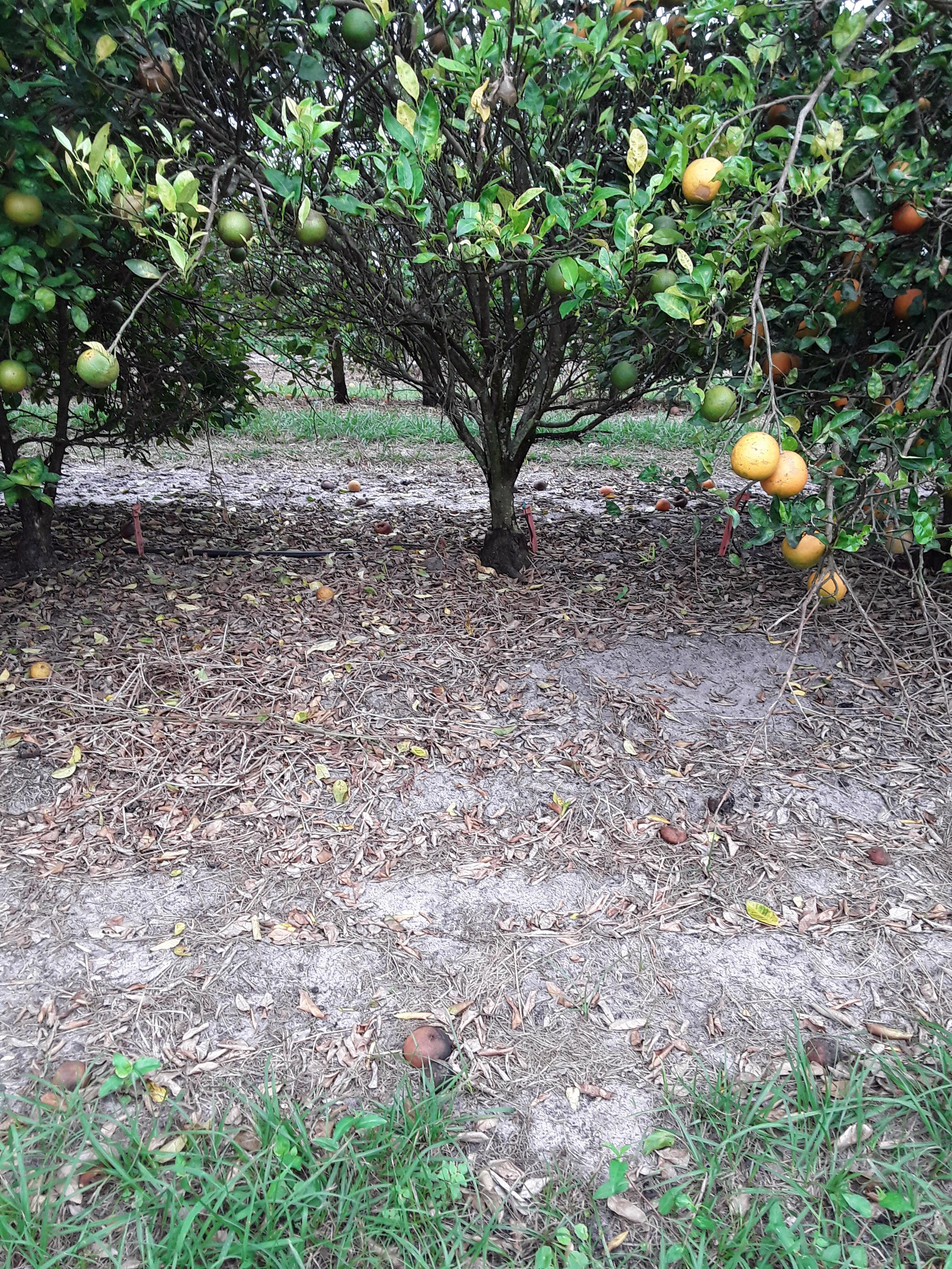fruit_on_ground: (730, 427, 782, 484), (678, 151, 729, 209), (70, 344, 127, 391), (779, 523, 830, 571), (761, 447, 808, 499), (887, 192, 933, 243), (130, 51, 178, 98), (833, 228, 886, 270), (695, 381, 743, 426), (336, 6, 382, 52), (0, 184, 46, 230), (889, 283, 933, 330), (784, 312, 830, 356), (821, 273, 865, 318), (214, 203, 255, 250), (726, 313, 773, 354), (804, 565, 850, 606), (291, 202, 330, 249), (761, 345, 803, 388), (541, 257, 580, 298), (807, 451, 851, 484), (873, 392, 913, 424), (608, 357, 642, 393), (881, 521, 914, 557), (553, 16, 592, 46), (762, 94, 795, 129), (858, 489, 894, 520), (657, 12, 694, 42), (0, 357, 30, 394), (611, 0, 645, 26), (827, 391, 856, 419), (886, 156, 915, 182), (425, 27, 451, 56), (226, 240, 250, 266), (442, 34, 465, 60), (266, 275, 288, 297)
fruit_on_tree: (400, 1025, 455, 1067), (50, 1058, 94, 1093), (800, 1035, 843, 1069), (657, 823, 690, 847), (865, 843, 893, 868), (27, 658, 53, 681), (653, 496, 672, 514), (315, 584, 334, 601), (373, 518, 391, 535), (529, 477, 548, 491), (346, 478, 361, 494), (597, 483, 614, 497), (697, 477, 715, 490)
